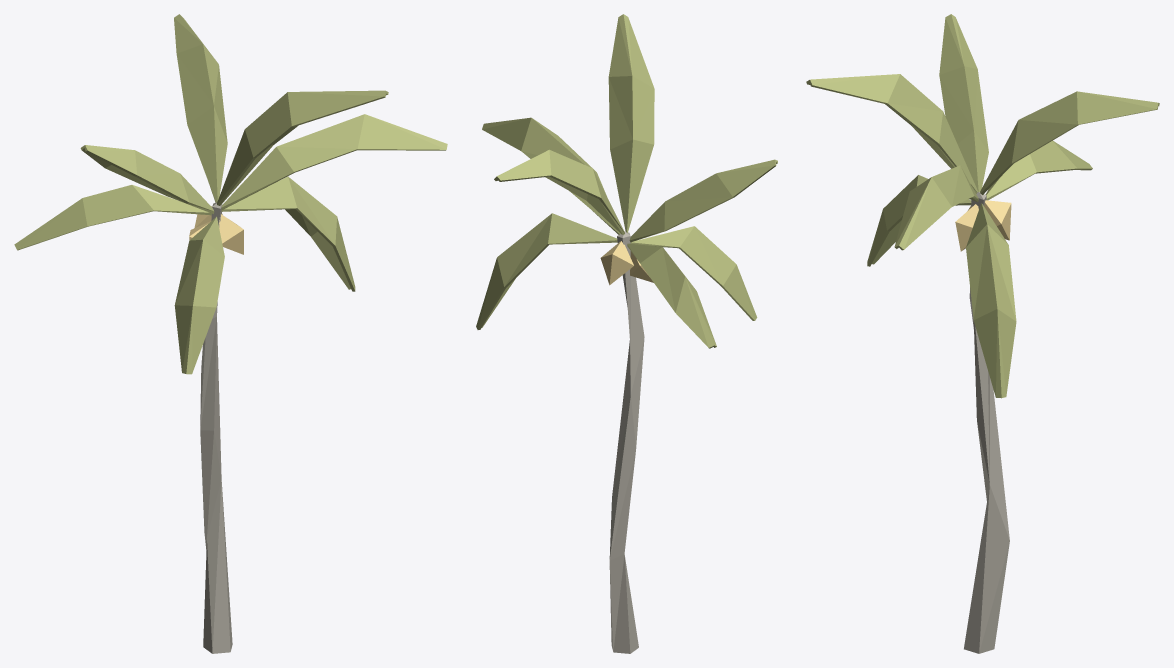
File: CocosNucifera.glb
3 views of the same model, side by side, from view 1: azimuth 30°, elevation 25°; view 2: azimuth 150°, elevation 25°; view 3: azimuth 270°, elevation 25° (orthographic). The views are drawn at different scales.
Parts seen in each view (by area): view 1: Crown, Trunk, Coconuts; view 2: Crown, Trunk, Coconuts; view 3: Crown, Trunk, Coconuts.
Boxes of the visible parts, left/top/right/bottom form: Crown: left=14, top=14, right=447, bottom=374; Trunk: left=200, top=202, right=232, bottom=653; Coconuts: left=189, top=206, right=243, bottom=254; Crown: left=476, top=14, right=777, bottom=348; Trunk: left=609, top=231, right=644, bottom=653; Coconuts: left=600, top=241, right=653, bottom=285; Crown: left=806, top=14, right=1159, bottom=398; Trunk: left=964, top=192, right=1009, bottom=653; Coconuts: left=955, top=200, right=1011, bottom=251.
Size of the model in its own units: 13.16 by 22.09 by 11.61.
